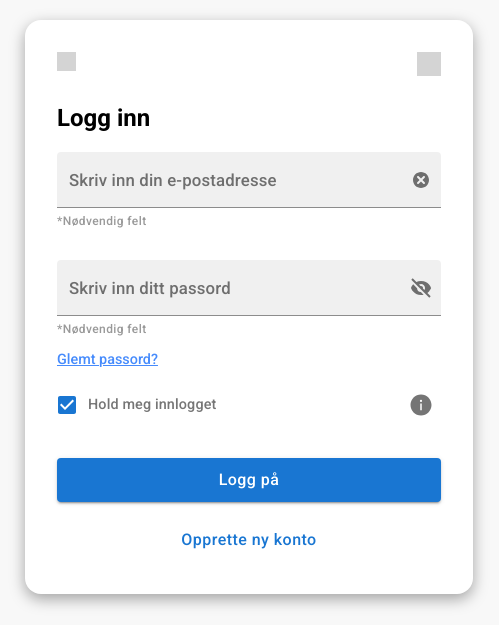
Test case: Clear input field and hide/show password should work
The image size is (499, 625).
Click the button named "toggle password visibility": coordinates (421, 288) [401,268,441,308]
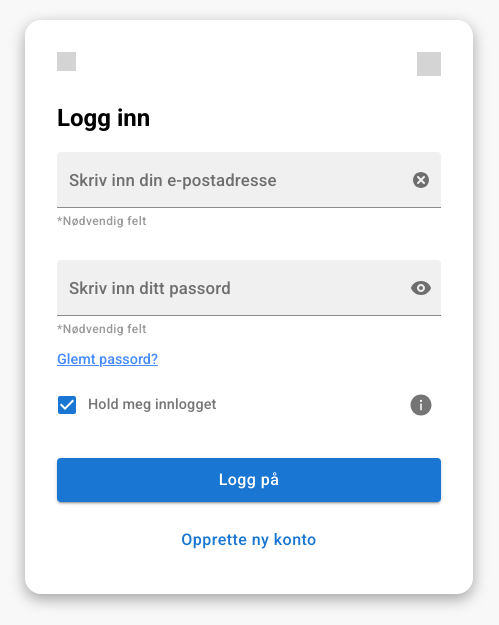
Click the button named "toggle password visibility": coordinates (421, 288) [401,268,441,308]
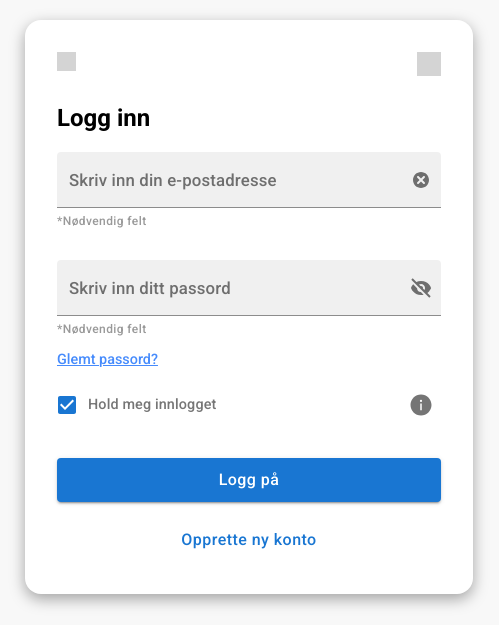
Expected: the button named "clear text" is shown, [401,160,441,200]
In the field labelled "Skriv inn din e-postadresse": coordinates (225, 180) [57,152,393,208], type "hello"
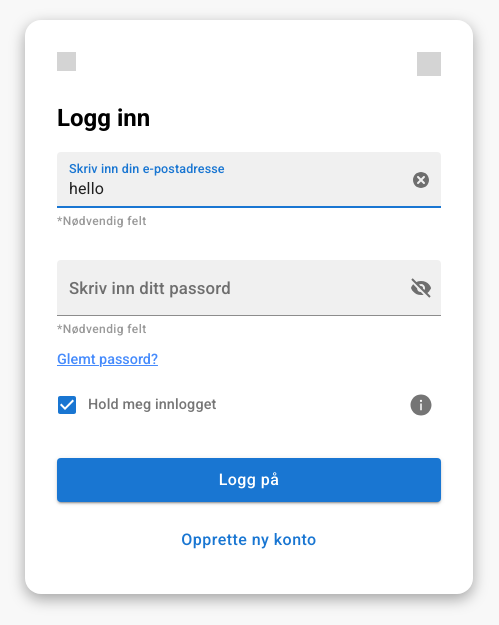
Click the button named "clear text": coordinates (421, 180) [401,160,441,200]
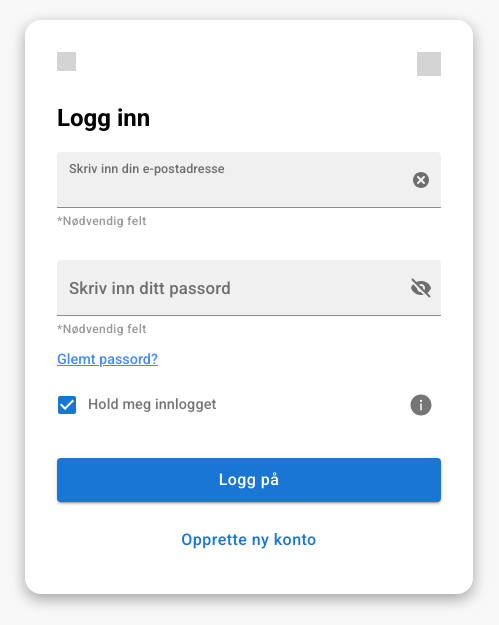
Result: the field labelled "Skriv inn din e-postadresse" is empty at [57,152,393,208]
